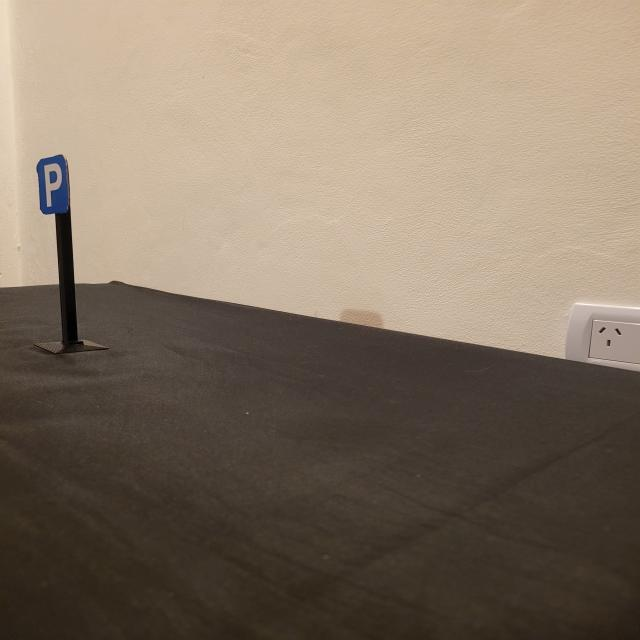parking: (36, 154, 69, 215)
